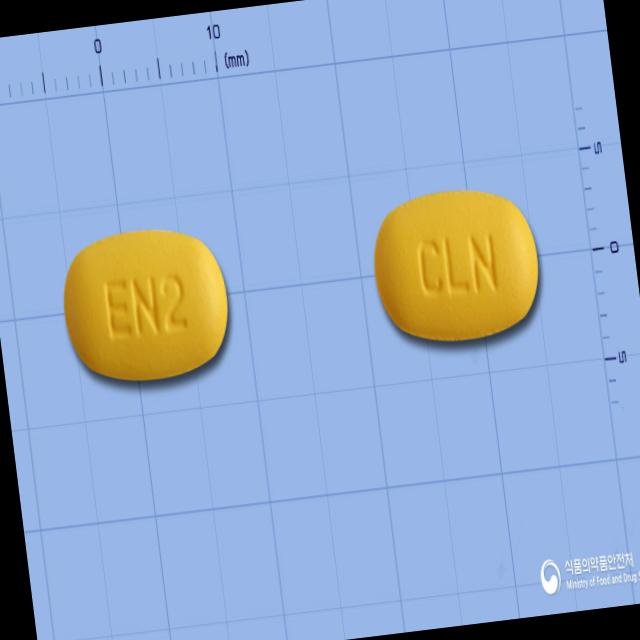Criacin: (55, 218, 237, 390), (366, 182, 547, 350)
